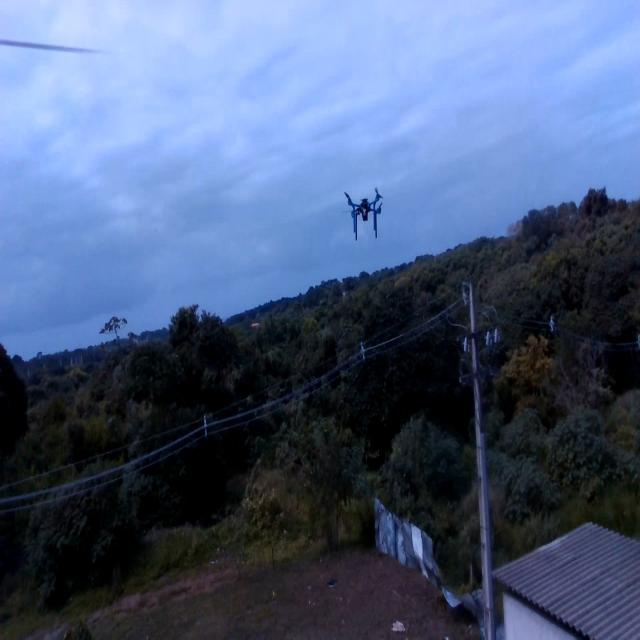-uav-: (332, 174, 410, 256)
